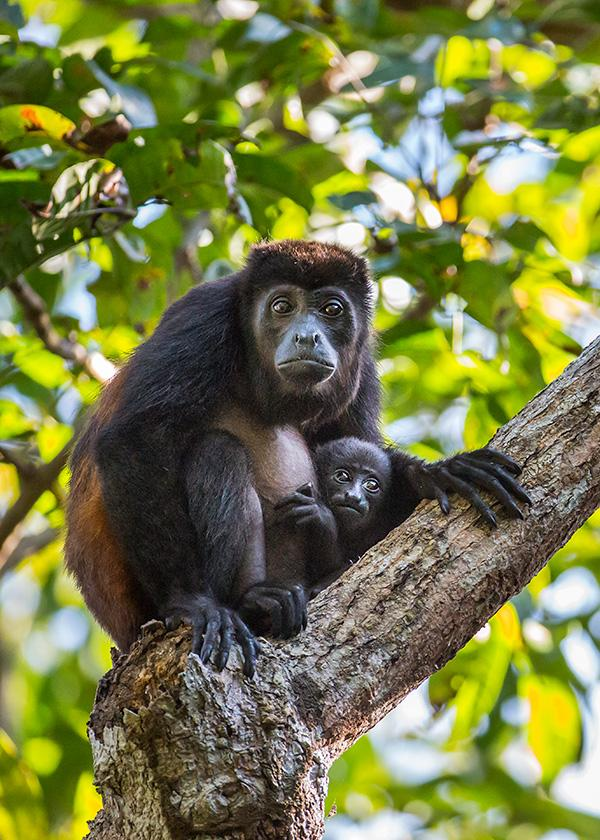monkey: (65, 241, 391, 660)
